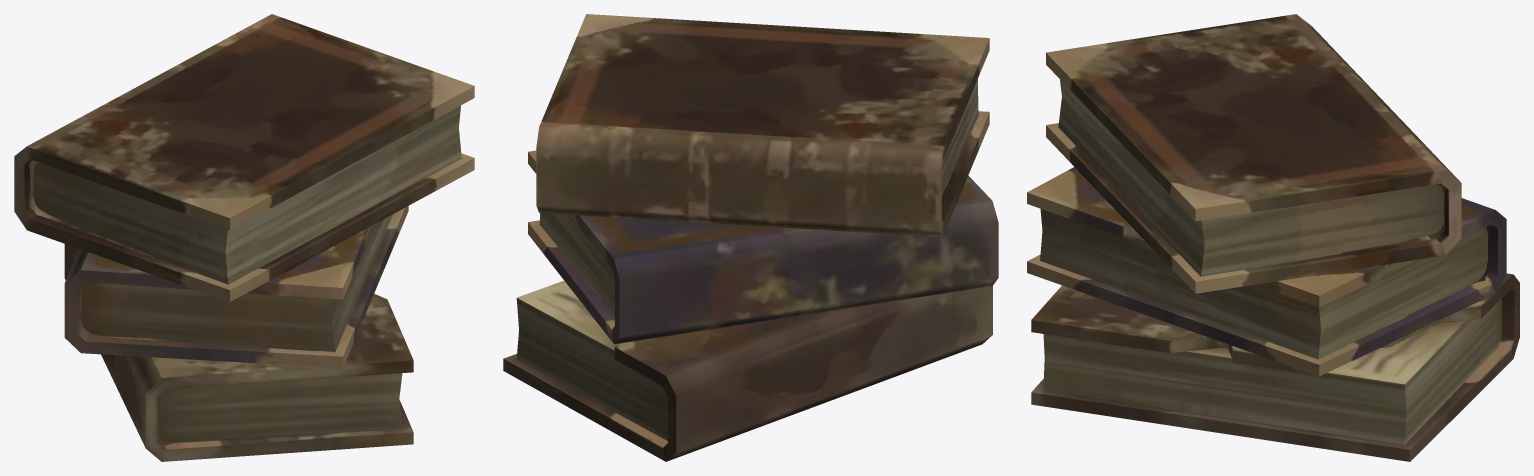
The picture shows the model from 3 angles, left to right: view 1: azimuth 30°, elevation 25°; view 2: azimuth 150°, elevation 25°; view 3: azimuth 270°, elevation 25°; orthographic projection. The views are drawn at different scales.
Visible parts, largest first — view 1: SM_DR_BookStack_11_LOD0; view 2: SM_DR_BookStack_11_LOD0; view 3: SM_DR_BookStack_11_LOD0.
Part boxes in pixels (x1=…): SM_DR_BookStack_11_LOD0: x1=14, y1=14, x2=474, y2=461; SM_DR_BookStack_11_LOD0: x1=503, y1=14, x2=998, y2=461; SM_DR_BookStack_11_LOD0: x1=1027, y1=14, x2=1519, y2=461.
Bounding box in the file's own units: 0.4515 × 0.2802 × 0.4715.
1 material, 1 textured.
